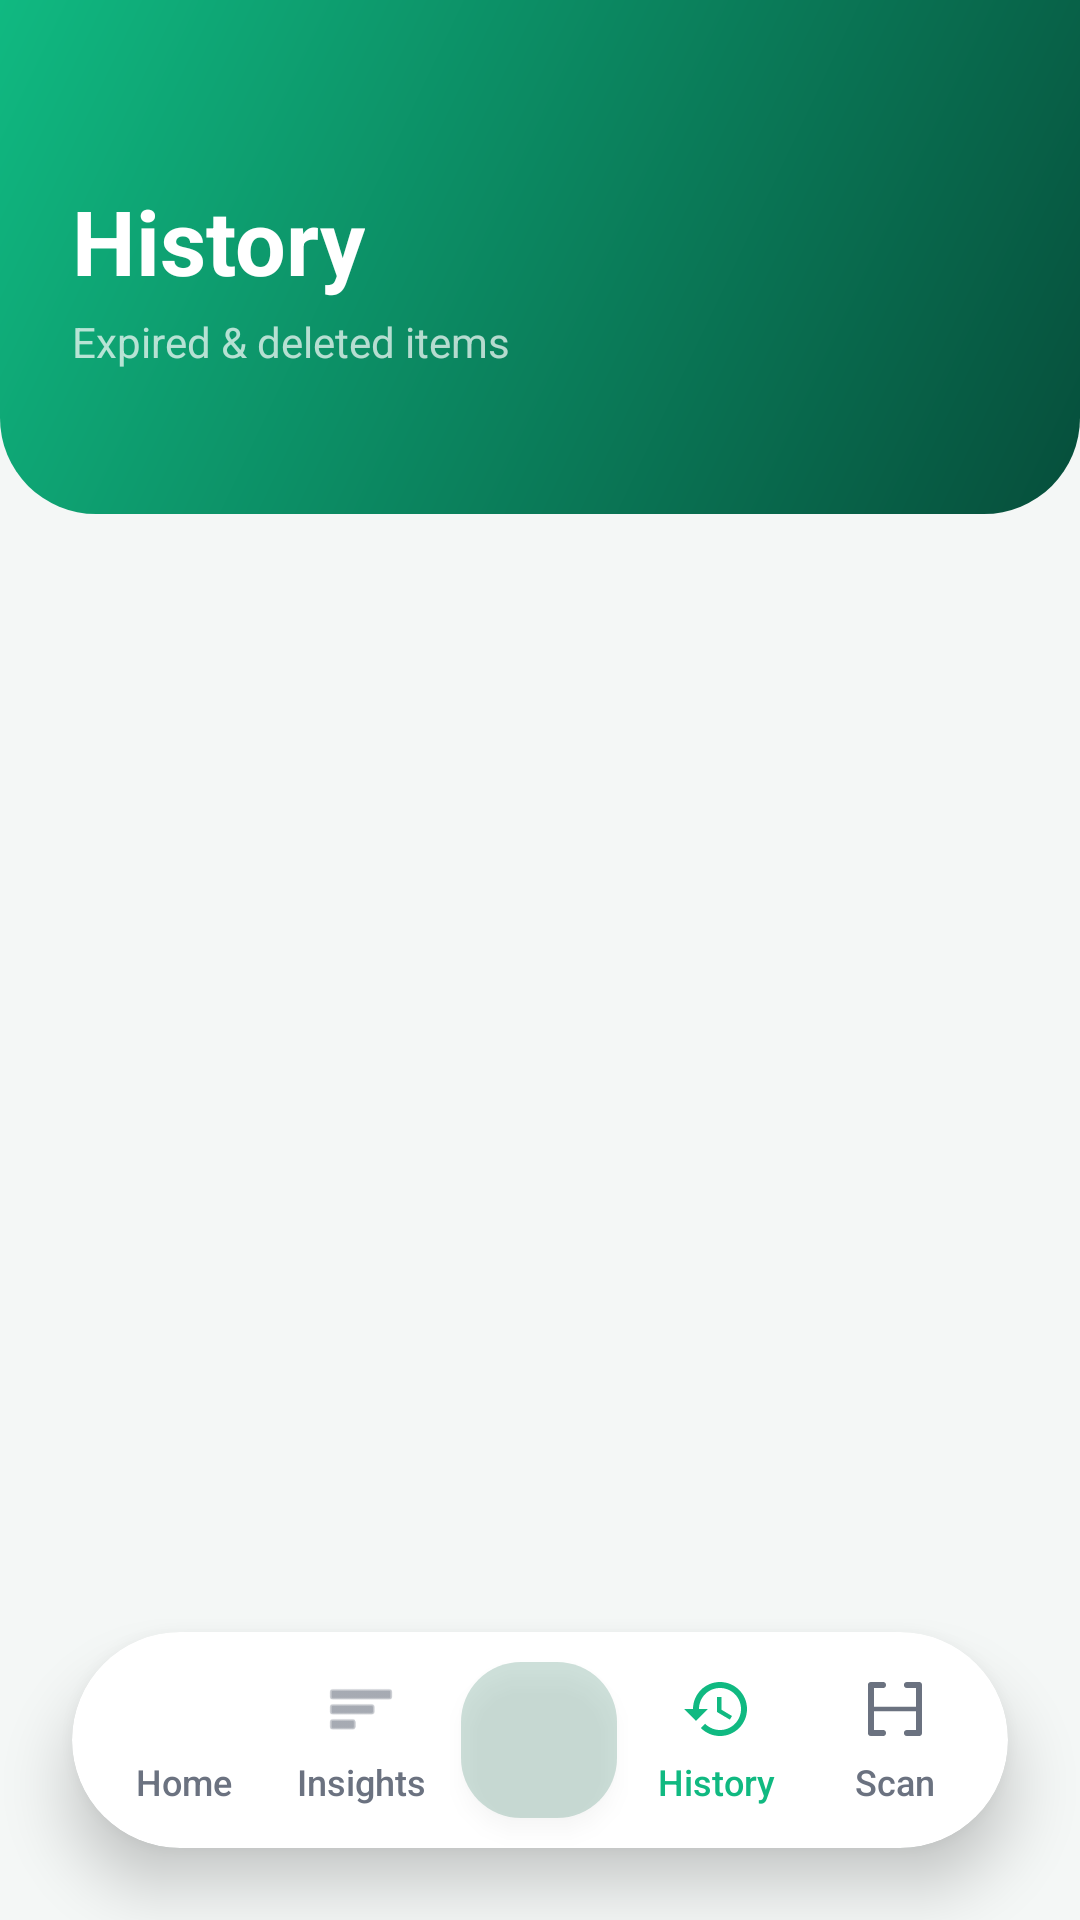

Named icons in this screenshot (1080*1920) and their bounding boxes, (x1, y1, x2, y2):
sort by size: (330, 1689, 392, 1729)
